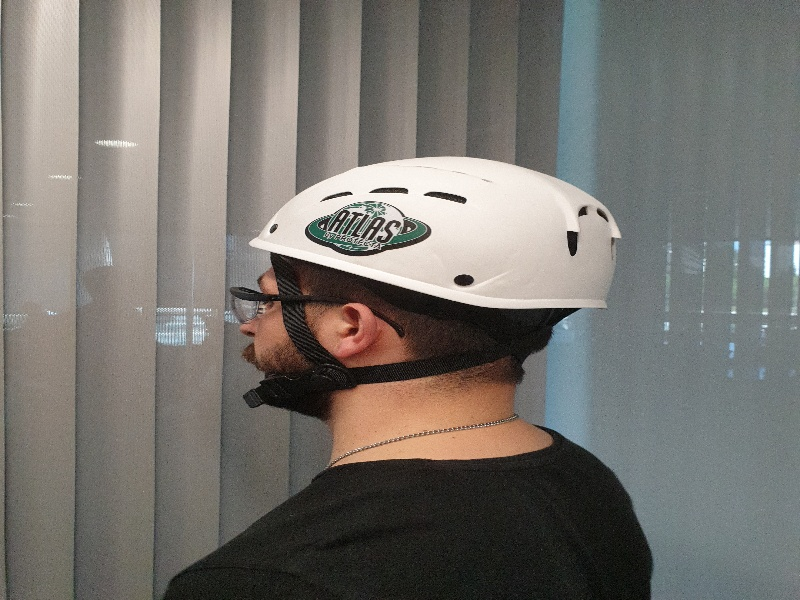Baret: (248, 154, 621, 310)
Gozluk: (225, 284, 343, 323)
